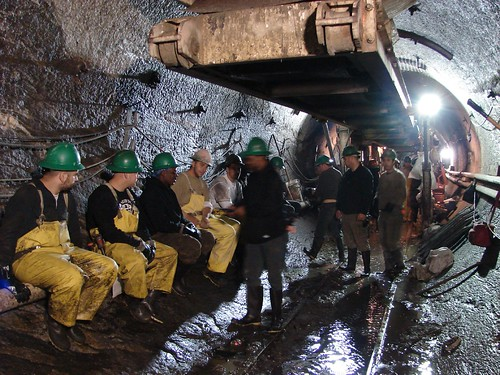person hardhat: (2, 141, 108, 336), (88, 146, 171, 326), (240, 132, 287, 326), (142, 145, 202, 294), (181, 147, 236, 285), (369, 151, 409, 269), (310, 156, 349, 271), (341, 147, 378, 266), (212, 150, 244, 210), (269, 153, 286, 194), (400, 153, 413, 179)
